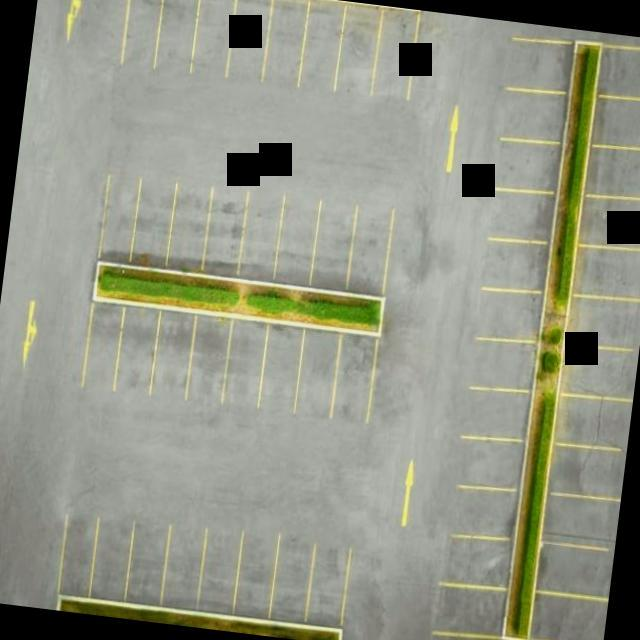free: (291, 0, 350, 99), (198, 183, 252, 283), (219, 319, 273, 418), (219, 0, 278, 90), (182, 0, 242, 85), (184, 314, 237, 410), (308, 196, 360, 292), (233, 192, 287, 284), (292, 332, 346, 424), (260, 3, 313, 96), (126, 177, 180, 268), (334, 6, 386, 100), (162, 184, 215, 276), (270, 196, 324, 286), (368, 10, 421, 101), (332, 335, 383, 428), (112, 308, 164, 398), (255, 326, 307, 416), (150, 0, 205, 84), (94, 175, 144, 267), (77, 304, 128, 392), (150, 314, 200, 402), (346, 207, 398, 291), (116, 0, 167, 73)
